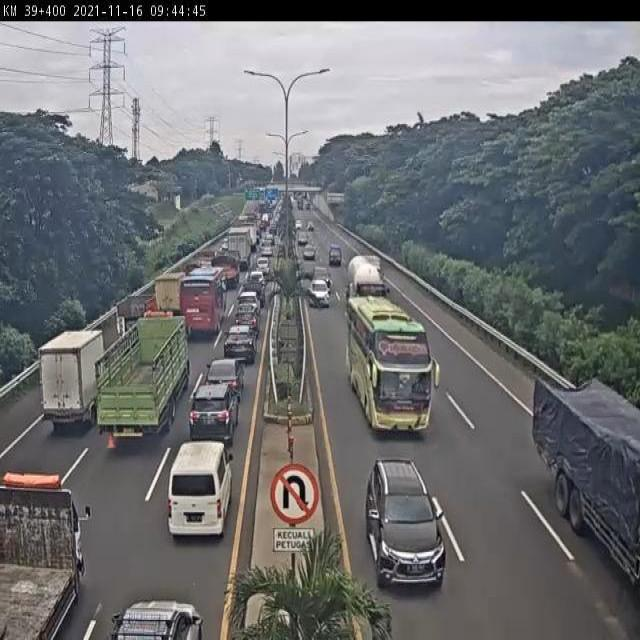big bus: (347, 296, 440, 439), (176, 273, 225, 344)
car: (365, 460, 446, 588), (165, 441, 231, 536), (188, 386, 236, 451), (204, 361, 245, 403), (221, 329, 253, 368), (232, 308, 259, 335), (236, 288, 261, 316)
small truck: (41, 325, 109, 431), (148, 272, 182, 328), (114, 300, 156, 343)
truck-l-: (530, 378, 640, 594), (98, 320, 187, 440)
